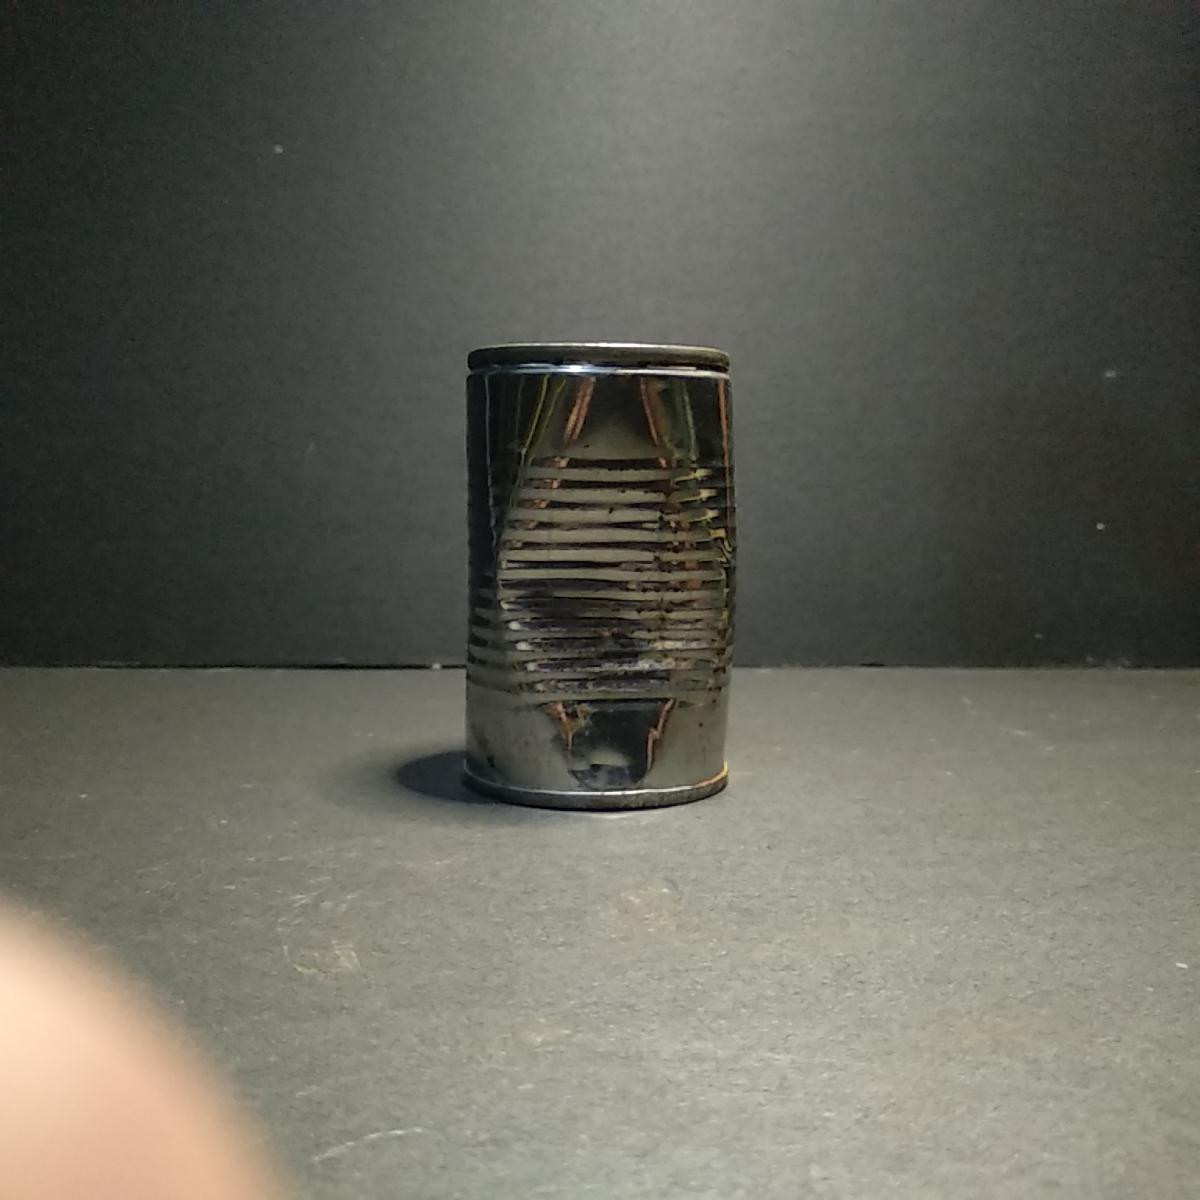Dented: (446, 324, 744, 816)
